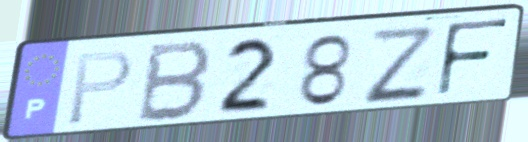2: (215, 35, 283, 118)
8: (298, 32, 355, 108)
B: (133, 38, 217, 125)
F: (433, 16, 514, 100)
P: (64, 47, 136, 129)
Z: (362, 23, 435, 106)
